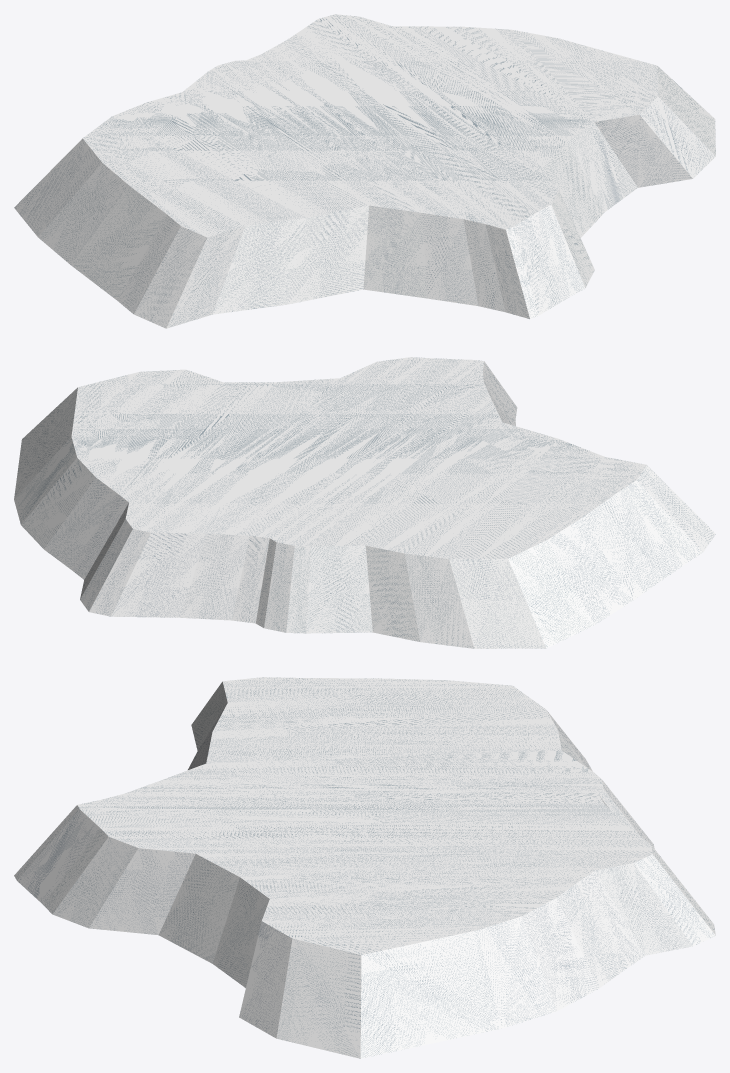
The model's file is Mound_Snow_02.fbx.
The picture shows the model from 3 angles, top to bottom: view 1: azimuth 30°, elevation 25°; view 2: azimuth 150°, elevation 25°; view 3: azimuth 270°, elevation 25°; orthographic projection. The views are drawn at different scales.
Parts seen in each view (by area): view 1: Model; view 2: Model; view 3: Model.
Part boxes in pixels (x1,y1,x2,y2): Model: (14, 14, 715, 328); Model: (14, 357, 715, 648); Model: (14, 677, 715, 1058).
Bounding box in the file's own units: 7819 × 788 × 6842.
